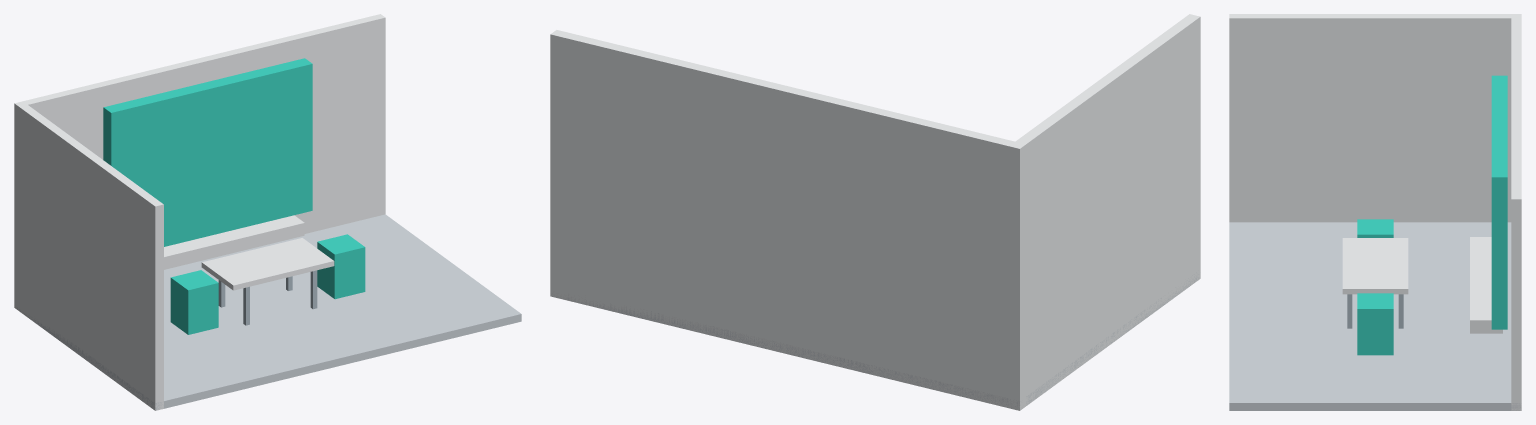
3 renders of one model, left to right at view 1: azimuth 30°, elevation 25°; view 2: azimuth 150°, elevation 25°; view 3: azimuth 270°, elevation 25°, orthographic. The views are drawn at different scales.
Parts seen in each view (by area): view 1: Exhibition Booth Concept; view 2: Exhibition Booth Concept; view 3: Exhibition Booth Concept.
Part boxes in pixels (box(x1,y1,x2,y2)): Exhibition Booth Concept: box(14, 14, 521, 410); Exhibition Booth Concept: box(550, 14, 1200, 410); Exhibition Booth Concept: box(1229, 14, 1521, 410).
Size of the model in its own units: 6 by 3.2 by 4.
